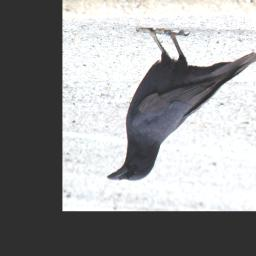Crow: (106, 27, 256, 182)
